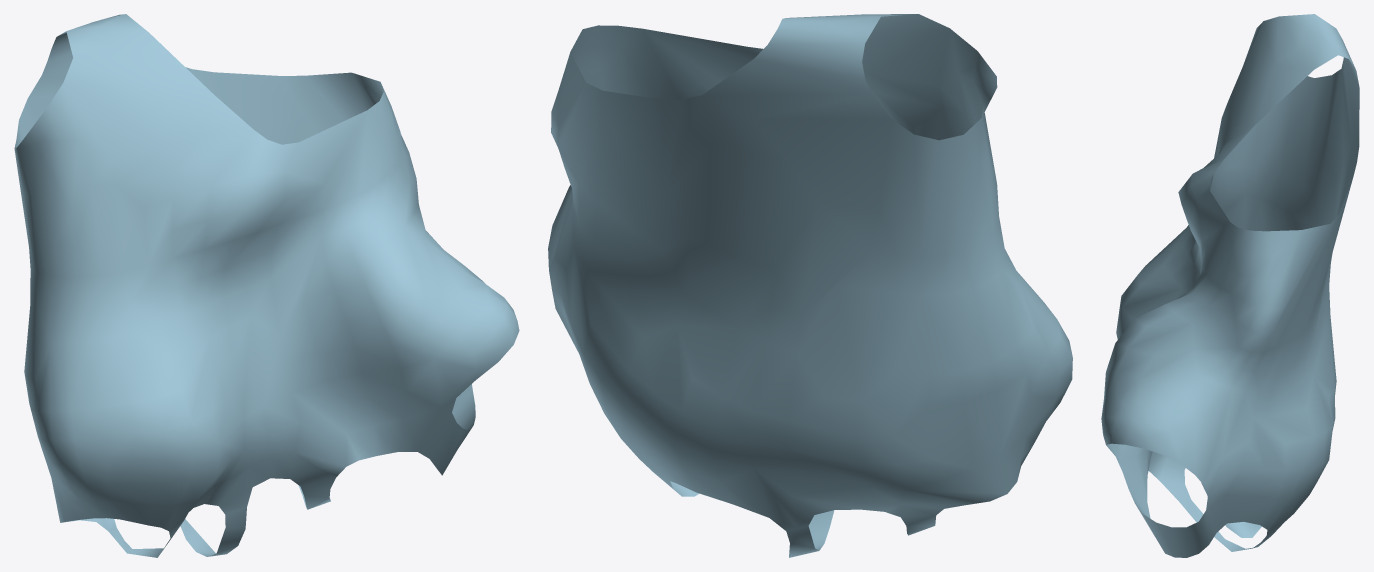
Rendered from articulacoes-articular-capsule-of-radiocarpal-joint-l.glb.
3 renders of one model, left to right at view 1: azimuth 30°, elevation 25°; view 2: azimuth 150°, elevation 25°; view 3: azimuth 270°, elevation 25°, orthographic. The views are drawn at different scales.
Visible parts, largest first — view 1: Articular capsule of radiocarpal joint.l; view 2: Articular capsule of radiocarpal joint.l; view 3: Articular capsule of radiocarpal joint.l.
Part boxes in pixels (box(x1,y1,x2,y2)): Articular capsule of radiocarpal joint.l: box(14, 14, 519, 557); Articular capsule of radiocarpal joint.l: box(548, 14, 1072, 557); Articular capsule of radiocarpal joint.l: box(1101, 14, 1359, 557).
Bounding box in the file's own units: 0.0549 × 0.0611 × 0.0302.
